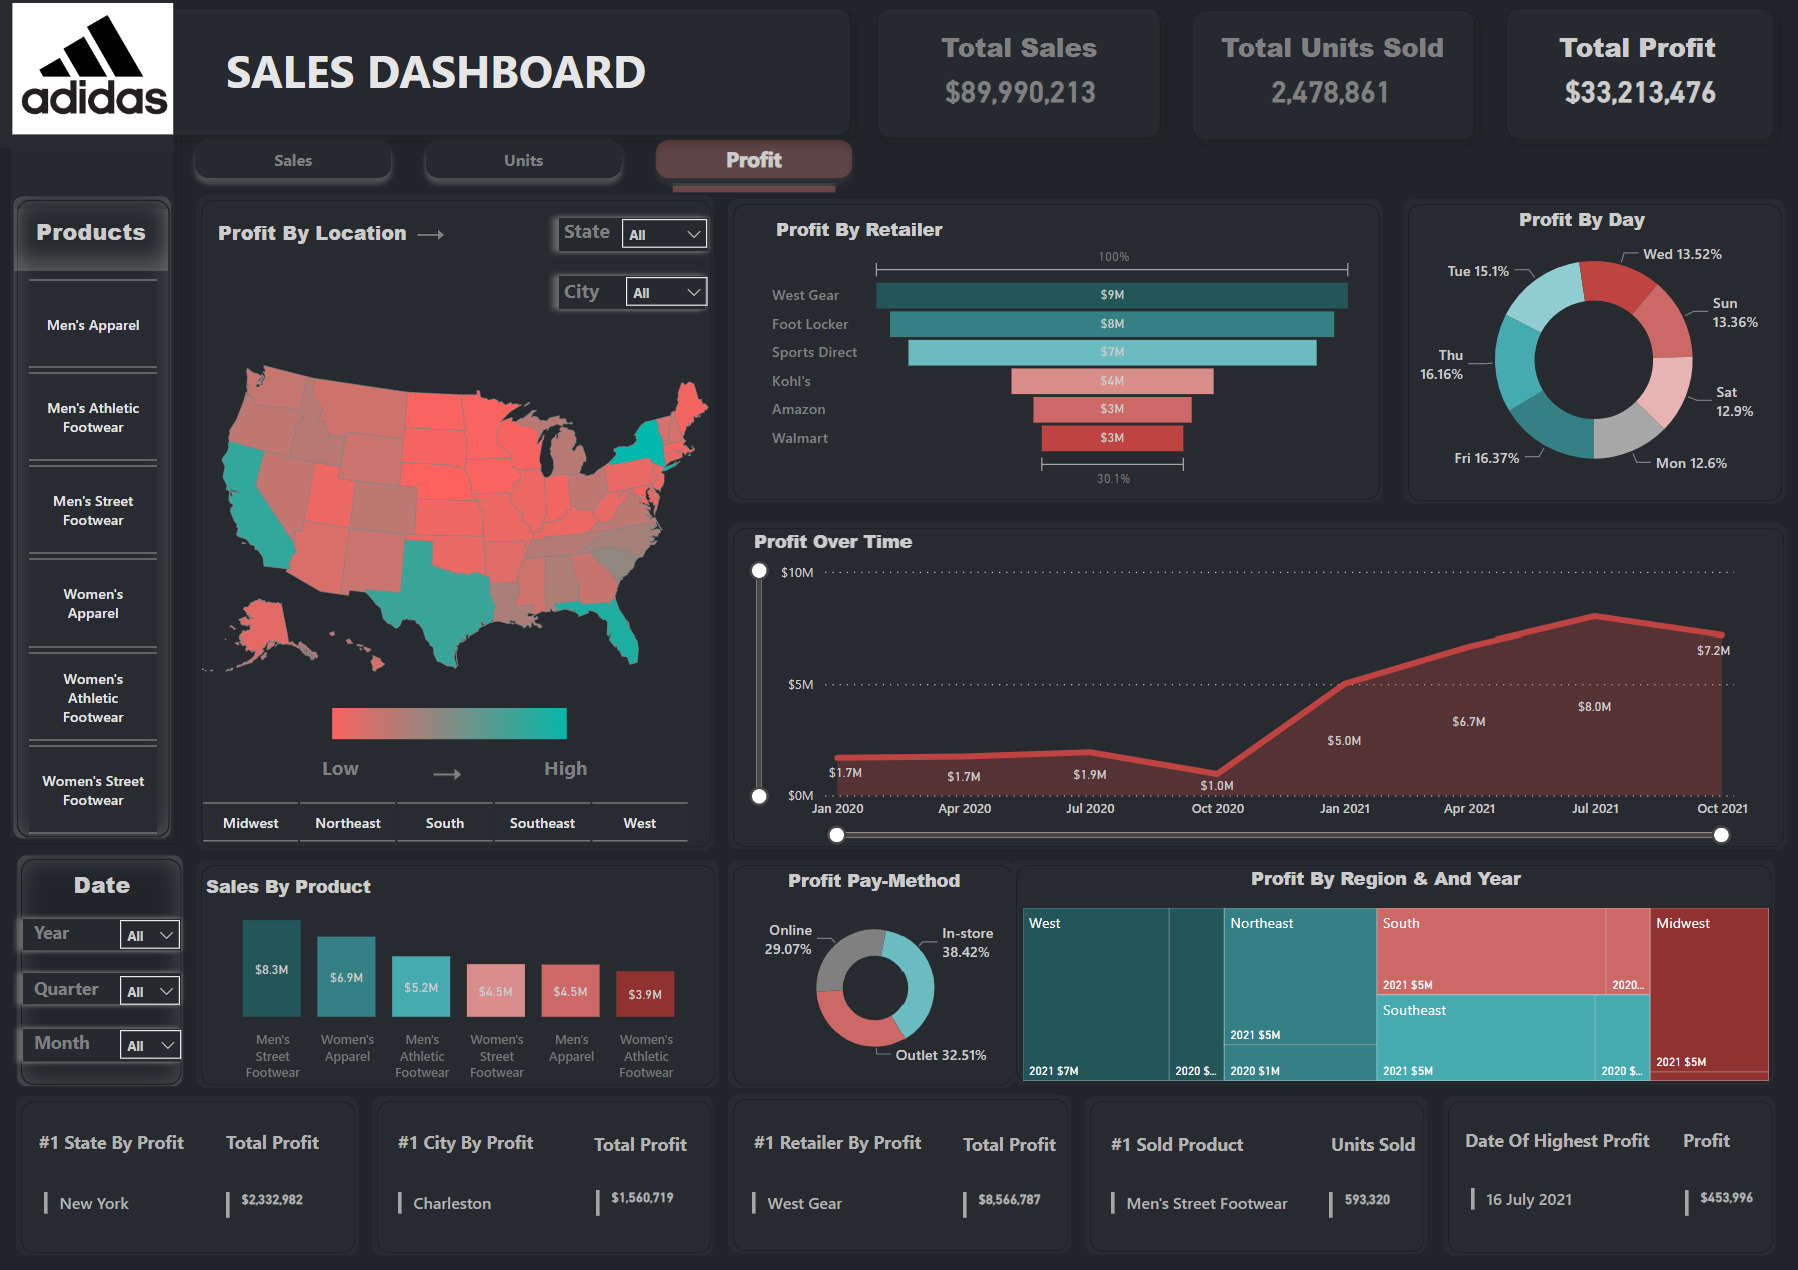

This screenshot's page, from the dashboard's own definition file:
{"tool":"powerbi","page":{"name":"Profit","canvas":[1500,1060],"ordinal":2},"visuals":[{"type":"shape","box":[0,0,157,710],"z":0},{"type":"shape","box":[11.7,165,133.3,536.7],"z":1000},{"type":"shape","box":[608.3,718.3,238.3,190],"z":2000},{"type":"shape","box":[905.7,915.5,285,132],"z":3000},{"type":"shape","box":[1202.9,915.7,277.1,132.9],"z":4000},{"type":"shape","box":[608.6,913.6,285,132.9],"z":5000},{"type":"shape","box":[311.4,915,285,132.9],"z":6000},{"type":"shape","box":[14.3,915,285,132.9],"z":7000},{"type":"shape","box":[14.4,713.3,140,194.4],"z":8000},{"type":"shape","box":[165,165,431.7,545],"z":9000},{"type":"shapeMap","fields":{"Category":["Data_1.State"],"Value":["Data_1.Profit"]},"box":[141.7,196.7,478.3,475],"z":10000},{"type":"shape","box":[0,0,719.8,125],"z":11000},{"type":"shape","box":[608.6,168.6,544.3,252.9],"z":12000},{"type":"shape","box":[608.6,438.6,881.4,271.4],"z":13000},{"type":"stackedAreaChart","fields":{"Category":["Data_1.Invoice Date.Variation.Date Hierarchy.Year","Data_1.Invoice Date.Variation.Date Hierarchy.Quarter"],"Y":["Data_1.Profit"]},"box":[623.3,465,838.3,243.3],"z":14000},{"type":"multiRowCard","fields":{"Values":["Sum(Data_1.Units Sold)"]},"box":[1102.9,990,78.6,34.3],"z":15000},{"type":"multiRowCard","fields":{"Values":["Data_1.Product"]},"box":[921.4,990,170,45.7],"z":16000},{"type":"textbox","box":[921.7,940,166.7,35],"z":17000},{"type":"textbox","box":[1105,940,130,35],"z":18000},{"type":"textbox","box":[624.3,938.6,164.3,34.3],"z":19000},{"type":"textbox","box":[798.6,940,118.6,34.3],"z":20000},{"type":"multiRowCard","fields":{"Values":["Data_1.Retailer"]},"box":[623.6,990.7,165.5,36.4],"z":21000},{"type":"multiRowCard","fields":{"Values":["Data_1.Profit"]},"box":[798.6,990,100,34.3],"z":22000},{"type":"textbox","box":[624.3,438.6,274.3,34.3],"z":23000},{"type":"multiRowCard","fields":{"Values":["Data_1.Profit"]},"box":[185.7,990,100,34.3],"z":24000},{"type":"multiRowCard","fields":{"Values":["Data_1.State"]},"box":[32.9,990,188.6,32.9],"z":25000},{"type":"textbox","box":[25.7,938.6,188.6,37.1],"z":26000},{"type":"textbox","box":[185.7,938.6,114.3,35.7],"z":27000},{"type":"shape","box":[0,0,145.3,125.3],"z":28000},{"type":"textbox","box":[185.5,30.2,485.9,64.5],"z":29000},{"type":"image","box":[0,0,157.3,119.3],"z":30000},{"type":"textbox","box":[177.6,180.3,193.4,40.8],"z":31000},{"type":"funnel","fields":{"Category":["Data_1.Retailer"],"Y":["Data_1.Profit"]},"box":[640,204,494,210],"z":32000},{"type":"shape","box":[723.8,0,254,127],"z":33000},{"type":"shape","box":[984.9,2,254,127],"z":34000},{"type":"shape","box":[1246,0,242,128],"z":35000},{"type":"multiRowCard","fields":{"Values":["Data_1.Sales"]},"box":[784,60,149,50],"z":36000},{"type":"textbox","box":[780,22,164,50],"z":37000},{"type":"multiRowCard","fields":{"Values":["Data_1.Profit"]},"box":[1300,60,161.4,50],"z":38000},{"type":"textbox","box":[1295.7,21.4,191.4,50],"z":39000},{"type":"multiRowCard","fields":{"Values":["Data_1.Quantity"]},"box":[1055.7,60,125.7,50],"z":40000},{"type":"textbox","box":[1012.9,21.4,210,50],"z":41000},{"type":"textbox","box":[642.9,178.6,274.3,32.9],"z":42000},{"type":"slicer","fields":{"Values":["Data_1.Region"]},"box":[145,663.3,453.3,46.7],"z":43000},{"type":"textbox","box":[328.3,938.9,163.6,34.5],"z":44000},{"type":"textbox","box":[492.1,939.6,102,34],"z":45000},{"type":"multiRowCard","fields":{"Values":["Data_1.City"]},"box":[328.6,990,164.3,37.1],"z":46000},{"type":"multiRowCard","fields":{"Values":["Data_1.Profit"]},"box":[492.9,988.6,100,34.3],"z":47000},{"type":"shape","box":[1170,168,318,254],"z":48000},{"type":"donutChart","fields":{"Category":["Data_1.Day"],"Y":["Data_1.Profit"]},"box":[1170,184,318,238],"z":49000},{"type":"textbox","box":[1262,170,136,40],"z":50000},{"type":"shape","box":[458.5,174.8,142.9,45.9],"z":51000},{"type":"textbox","box":[467.3,178.4,155.9,42.4],"z":52000},{"type":"slicer","title":"Select City","fields":{"Values":["Data_1.State"]},"box":[510.3,174.8,91.2,46.5],"z":53000},{"type":"shape","box":[361.7,639.3,26,14],"z":54000},{"type":"image","box":[255.7,587.3,242,36],"z":55000},{"type":"shape","box":[458,224,140,46],"z":56000},{"type":"shape","box":[348.7,192.1,25,13.2],"z":57000},{"type":"textbox","box":[467,228,156,42],"z":58000},{"type":"textbox","box":[449.7,625,60,43.3],"z":59000},{"type":"textbox","box":[264.8,625,51.4,42.9],"z":60000},{"type":"slicer","title":"Select City","fields":{"Values":["Data_1.City"]},"box":[513,224,88,46],"z":61000},{"type":"shape","box":[843.8,718.8,636.2,187.5],"z":62000},{"type":"treemap","fields":{"Group":["Data_1.Region"],"Details":["Data_1.Year"],"Values":["Data_1.Profit"]},"box":[848.8,753.8,631.2,153.8],"z":63000},{"type":"textbox","box":[1038,718,400,34],"z":64000},{"type":"shape","box":[165,718.3,435,190],"z":65000},{"type":"donutChart","fields":{"Category":["Data_1.Sales Method"],"Y":["Data_1.Profit"]},"box":[620,755,221.7,140],"z":66000},{"type":"textbox","box":[654,720,172,34],"z":67000},{"type":"shape","box":[11.1,757.8,150,44.4],"z":68000},{"type":"textbox","box":[24.4,762.8,54.4,36.7],"z":69000},{"type":"shape","box":[12.2,850,148.9,45.6],"z":70000},{"type":"textbox","box":[25.6,854.6,72.5,42.5],"z":71000},{"type":"slicer","title":"Select City","fields":{"Values":["Data_1.Month"]},"box":[91.1,850,71.1,45.6],"z":72000},{"type":"shape","box":[11.1,803.9,150,44.4],"z":73000},{"type":"textbox","box":[24.4,809.4,73.3,41.7],"z":74000},{"type":"slicer","title":"Select City","fields":{"Values":["Data_1.Month"]},"box":[91.1,804.4,70,44.4],"z":75000},{"type":"slicer","title":"Select City","fields":{"Values":["Data_1.Year"]},"box":[91.1,757.8,70,44.4],"z":76000},{"type":"textbox","box":[17.8,720,136.7,37.8],"z":77000},{"type":"multiRowCard","fields":{"Values":["Data_1.Profit"]},"box":[1400,988,80,36],"z":78000},{"type":"multiRowCard","fields":{"Values":["Data_1.Invoice Date"]},"box":[1221.7,986.7,170,46.7],"z":79000},{"type":"textbox","box":[1216.7,936.7,166.7,36.7],"z":80000},{"type":"textbox","box":[1398,936,76,38],"z":81000},{"type":"clusteredColumnChart","fields":{"Category":["Data_1.Product"],"Y":["Data_1.Profit"]},"box":[165,735,430,175],"z":82000},{"type":"textbox","box":[168.3,725,173.3,33.3],"z":83000},{"type":"pageNavigator","box":[155,110,566.7,50],"z":84000},{"type":"actionButton","box":[163.3,115,170,40],"z":85000},{"type":"actionButton","box":[545,115,170,40],"z":86000},{"type":"actionButton","box":[553.3,148.3,153.3,23.3],"z":87000},{"type":"slicer","fields":{"Values":["Data_1.Product"]},"box":[0,228.3,156.7,475],"z":88000},{"type":"textbox","box":[13.3,176.7,128.3,51.7],"z":89000}]}

Visuals, with their boxes in screenshot pixels (x1, y1, x2, y2), scaled from the page's 1500x1060 canvas onto the 1798x1270 screenshot:
shape: 0, 0, 188, 851
shape: 14, 198, 174, 841
shape: 729, 861, 1015, 1088
shape: 1086, 1097, 1427, 1255
shape: 1442, 1097, 1774, 1256
shape: 730, 1095, 1071, 1254
shape: 373, 1096, 715, 1256
shape: 17, 1096, 359, 1256
shape: 17, 855, 185, 1088
shape: 198, 198, 715, 851
shapeMap - Data_1.State x Data_1.Profit: 170, 236, 743, 805
shape: 0, 0, 863, 150
shape: 730, 202, 1382, 505
shape: 730, 525, 1786, 851
stackedAreaChart - Data_1.Invoice Date.Variation.Date Hierarchy.Year x Data_1.Invoice Date.Variation.Date Hierarchy.Quarter: 747, 557, 1752, 849
multiRowCard - Sum(Data_1.Units Sold): 1322, 1186, 1416, 1227
multiRowCard - Data_1.Product: 1104, 1186, 1308, 1241
textbox: 1105, 1126, 1305, 1168
textbox: 1325, 1126, 1480, 1168
textbox: 748, 1125, 945, 1166
textbox: 957, 1126, 1099, 1167
multiRowCard - Data_1.Retailer: 747, 1187, 946, 1231
multiRowCard - Data_1.Profit: 957, 1186, 1077, 1227
textbox: 748, 525, 1077, 567
multiRowCard - Data_1.Profit: 223, 1186, 342, 1227
multiRowCard - Data_1.State: 39, 1186, 266, 1226
textbox: 31, 1125, 257, 1169
textbox: 223, 1125, 360, 1167
shape: 0, 0, 174, 150
textbox: 222, 36, 805, 113
image: 0, 0, 189, 143
textbox: 213, 216, 445, 265
funnel - Data_1.Retailer x Data_1.Profit: 767, 244, 1359, 496
shape: 868, 0, 1172, 152
shape: 1181, 2, 1485, 155
shape: 1494, 0, 1784, 153
multiRowCard - Data_1.Sales: 940, 72, 1118, 132
textbox: 935, 26, 1132, 86
multiRowCard - Data_1.Profit: 1558, 72, 1752, 132
textbox: 1553, 26, 1783, 86
multiRowCard - Data_1.Quantity: 1265, 72, 1416, 132
textbox: 1214, 26, 1466, 86
textbox: 771, 214, 1099, 253
slicer - Data_1.Region: 174, 795, 717, 851
textbox: 394, 1125, 590, 1166
textbox: 590, 1126, 712, 1166
multiRowCard - Data_1.City: 394, 1186, 591, 1231
multiRowCard - Data_1.Profit: 591, 1184, 711, 1226
shape: 1402, 201, 1784, 506
donutChart - Data_1.Day x Data_1.Profit: 1402, 220, 1784, 506
textbox: 1513, 204, 1676, 252
shape: 550, 209, 721, 264
textbox: 560, 214, 747, 265
"Select City" slicer: 612, 209, 721, 265
shape: 434, 766, 465, 783
image: 306, 704, 597, 747
shape: 549, 268, 717, 323
shape: 418, 230, 448, 246
textbox: 560, 273, 747, 323
textbox: 539, 749, 611, 801
textbox: 317, 749, 379, 800
"Select City" slicer: 615, 268, 720, 323
shape: 1011, 861, 1774, 1086
treemap - Data_1.Region x Data_1.Year: 1017, 903, 1774, 1087
textbox: 1244, 860, 1724, 901
shape: 198, 861, 719, 1088
donutChart - Data_1.Sales Method x Data_1.Profit: 743, 905, 1009, 1072
textbox: 784, 863, 990, 903
shape: 13, 908, 193, 961
textbox: 29, 914, 94, 958
shape: 15, 1018, 193, 1073
textbox: 31, 1024, 118, 1075
"Select City" slicer: 109, 1018, 194, 1073
shape: 13, 963, 193, 1016
textbox: 29, 970, 117, 1020
"Select City" slicer: 109, 964, 193, 1017
"Select City" slicer: 109, 908, 193, 961
textbox: 21, 863, 185, 908
multiRowCard - Data_1.Profit: 1678, 1184, 1774, 1227
multiRowCard - Data_1.Invoice Date: 1464, 1182, 1668, 1238
textbox: 1458, 1122, 1658, 1166
textbox: 1676, 1121, 1767, 1167
clusteredColumnChart - Data_1.Product x Data_1.Profit: 198, 881, 713, 1090
textbox: 202, 869, 409, 909
pageNavigator: 186, 132, 865, 192
actionButton: 196, 138, 400, 186
actionButton: 653, 138, 857, 186
actionButton: 663, 178, 847, 206
slicer - Data_1.Product: 0, 274, 188, 843
textbox: 16, 212, 170, 274
